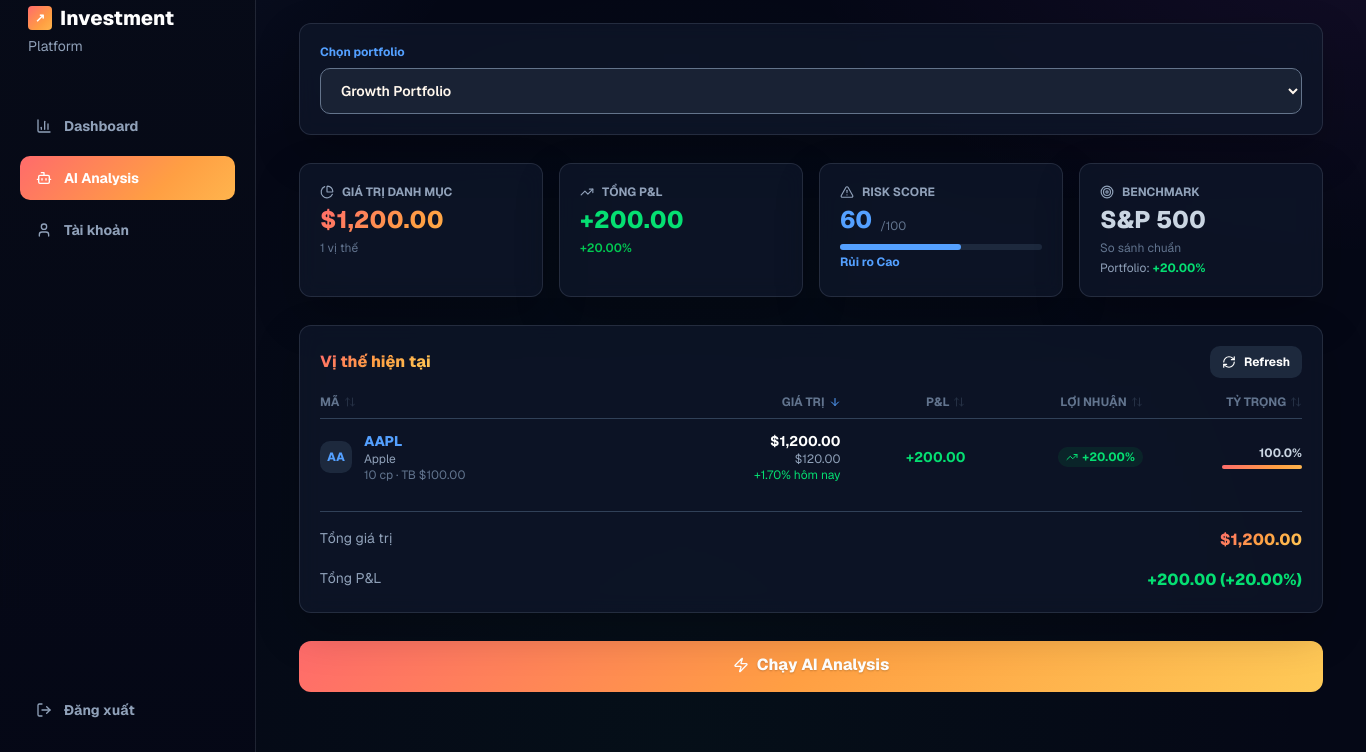
Test: ai analysis › builds positions from transactions and renders AI analysis result
(page scrolled)
expect the text "AAPL" is shown: met, box [364,432,402,450]
expect the text "Apple" is shown: met, box [364,451,396,467]
Click the button "Chạy AI Analysis" at (811,666), box [299,641,1323,692]
(page scrolled)
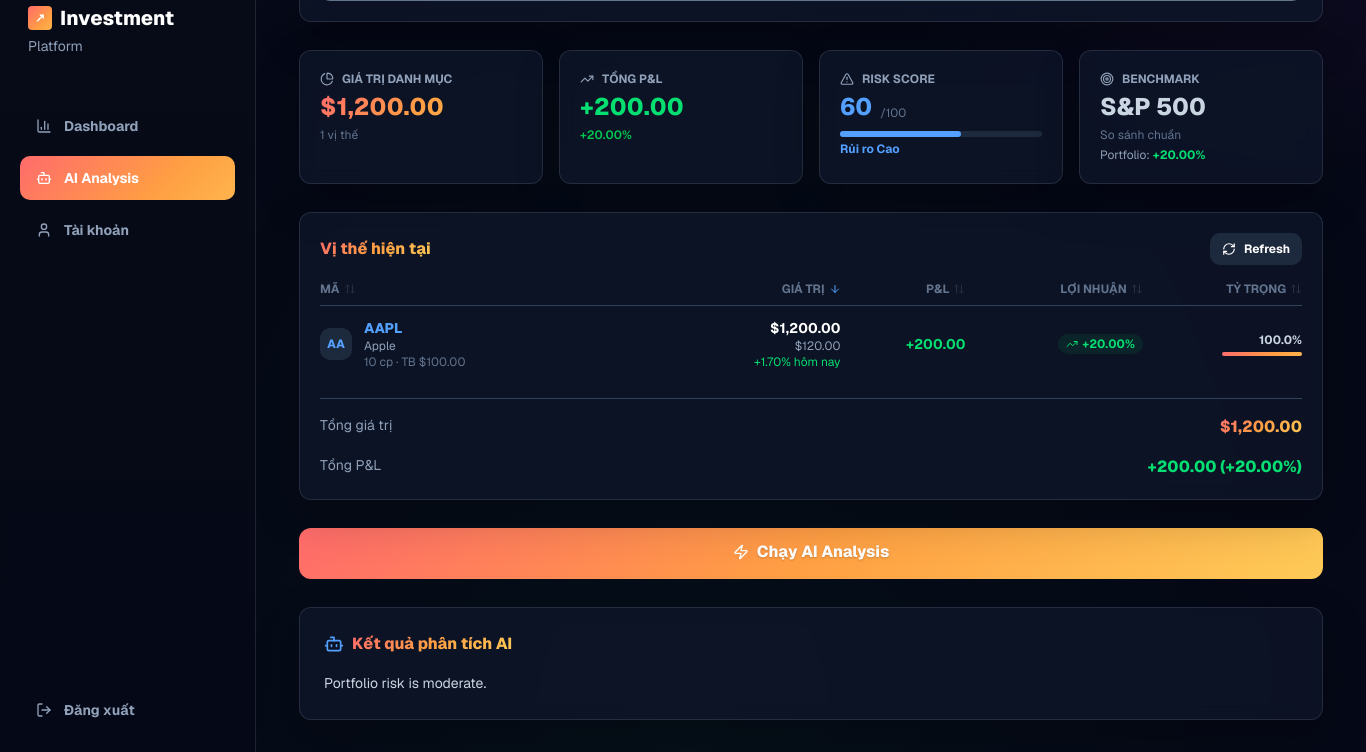
expect the text "Portfolio risk is moderate." is shown: met, box [324,674,486,692]
